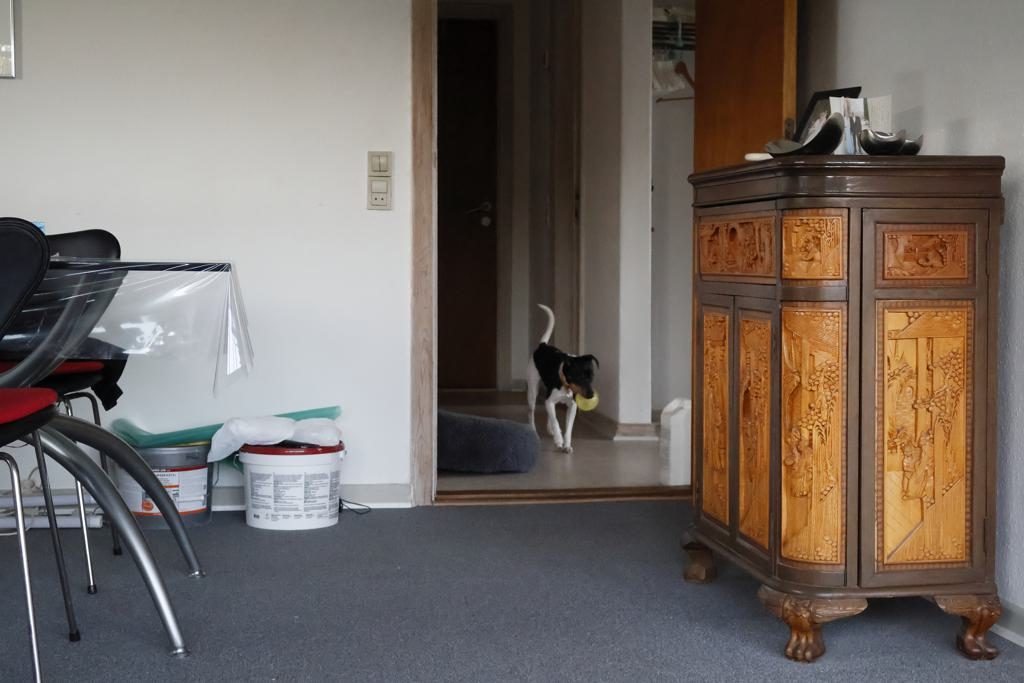Dog: (515, 294, 606, 462)
